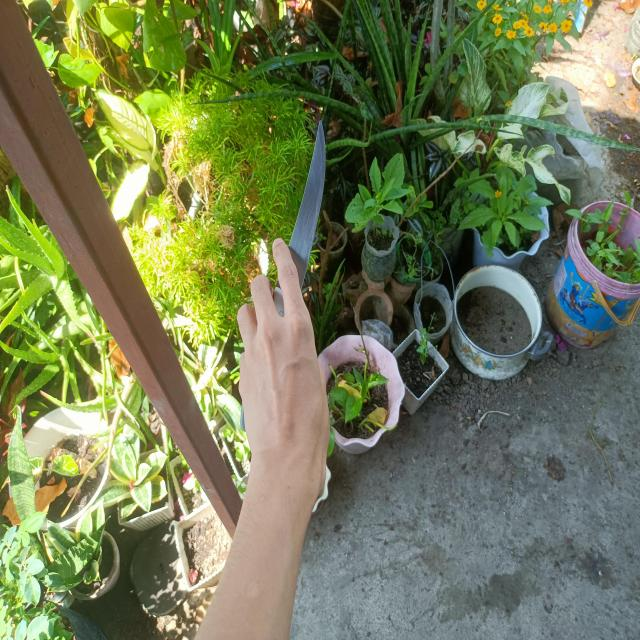knife: (274, 120, 326, 294)
